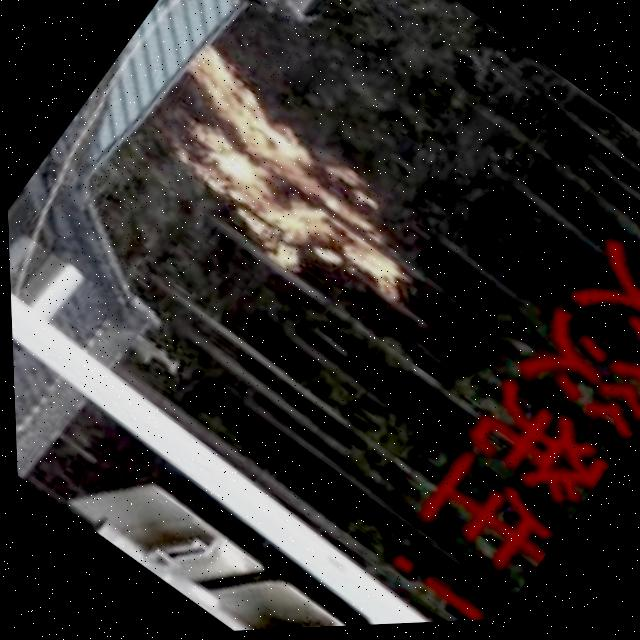Fire: (113, 25, 482, 366)
